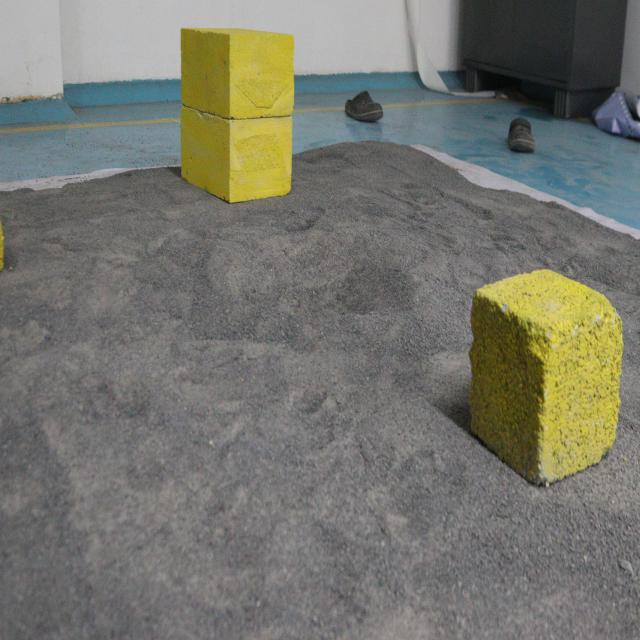box: (470, 268, 618, 476), (176, 26, 295, 202)
